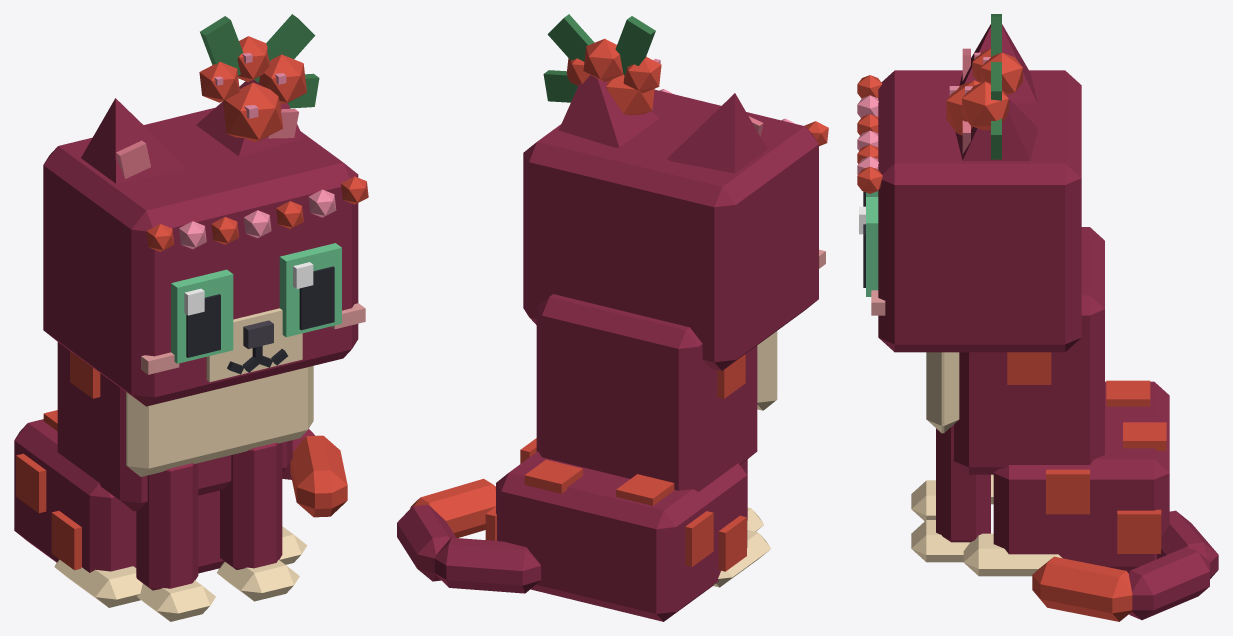
Rendered from CatCafe_Cat_Cranberry_Sit.glb.
The picture shows the model from 3 angles, left to right: view 1: azimuth 30°, elevation 25°; view 2: azimuth 150°, elevation 25°; view 3: azimuth 270°, elevation 25°; orthographic projection. The views are drawn at different scales.
Visible parts, largest first — view 1: CatCafe_Cat_Cranberry_Sit_Head, CatCafe_Cat_Cranberry_Sit_Body, CatCafe_Cat_Cranberry_Sit_Prop, CatCafe_Cat_Cranberry_Sit_LegF1, CatCafe_Cat_Cranberry_Sit_LegF2, CatCafe_Cat_Cranberry_Sit_Eye2, CatCafe_Cat_Cranberry_Sit_Eye1, CatCafe_Cat_Cranberry_Sit_EarR, CatCafe_Cat_Cranberry_Sit_Tail, CatCafe_Cat_Cranberry_Sit_EarL; view 2: CatCafe_Cat_Cranberry_Sit_Body, CatCafe_Cat_Cranberry_Sit_Head, CatCafe_Cat_Cranberry_Sit_Tail, CatCafe_Cat_Cranberry_Sit_Prop, CatCafe_Cat_Cranberry_Sit_EarR, CatCafe_Cat_Cranberry_Sit_EarL; view 3: CatCafe_Cat_Cranberry_Sit_Head, CatCafe_Cat_Cranberry_Sit_Body, CatCafe_Cat_Cranberry_Sit_Tail, CatCafe_Cat_Cranberry_Sit_Prop, CatCafe_Cat_Cranberry_Sit_LegF1, CatCafe_Cat_Cranberry_Sit_EarL, CatCafe_Cat_Cranberry_Sit_EarR, CatCafe_Cat_Cranberry_Sit_Eye1, CatCafe_Cat_Cranberry_Sit_LegF2.
Part boxes in pixels (x1,y1,x2,y2): CatCafe_Cat_Cranberry_Sit_Head: (43, 107, 365, 406); CatCafe_Cat_Cranberry_Sit_Body: (14, 342, 313, 607); CatCafe_Cat_Cranberry_Sit_Prop: (146, 14, 368, 251); CatCafe_Cat_Cranberry_Sit_LegF1: (217, 443, 299, 601); CatCafe_Cat_Cranberry_Sit_LegF2: (136, 463, 215, 621); CatCafe_Cat_Cranberry_Sit_Eye2: (171, 269, 233, 363); CatCafe_Cat_Cranberry_Sit_Eye1: (279, 243, 341, 337); CatCafe_Cat_Cranberry_Sit_EarR: (81, 98, 187, 183); CatCafe_Cat_Cranberry_Sit_Tail: (282, 429, 347, 517); CatCafe_Cat_Cranberry_Sit_EarL: (196, 80, 303, 156); CatCafe_Cat_Cranberry_Sit_Body: (485, 294, 777, 621); CatCafe_Cat_Cranberry_Sit_Head: (523, 89, 825, 370); CatCafe_Cat_Cranberry_Sit_Tail: (397, 478, 541, 593); CatCafe_Cat_Cranberry_Sit_Prop: (543, 14, 828, 146); CatCafe_Cat_Cranberry_Sit_EarR: (667, 93, 767, 173); CatCafe_Cat_Cranberry_Sit_EarL: (558, 75, 659, 147); CatCafe_Cat_Cranberry_Sit_Head: (871, 70, 1081, 352); CatCafe_Cat_Cranberry_Sit_Body: (926, 227, 1169, 576); CatCafe_Cat_Cranberry_Sit_Tail: (1032, 510, 1218, 621); CatCafe_Cat_Cranberry_Sit_Prop: (857, 14, 1022, 193); CatCafe_Cat_Cranberry_Sit_LegF1: (911, 425, 990, 562); CatCafe_Cat_Cranberry_Sit_EarL: (955, 99, 1037, 160); CatCafe_Cat_Cranberry_Sit_EarR: (959, 24, 1037, 103); CatCafe_Cat_Cranberry_Sit_Eye1: (859, 197, 878, 296); CatCafe_Cat_Cranberry_Sit_LegF2: (911, 480, 935, 521).
Size of the model in its own units: 1.24 by 2.04 by 1.25.
Materials: 1 (1 with a texture image).
